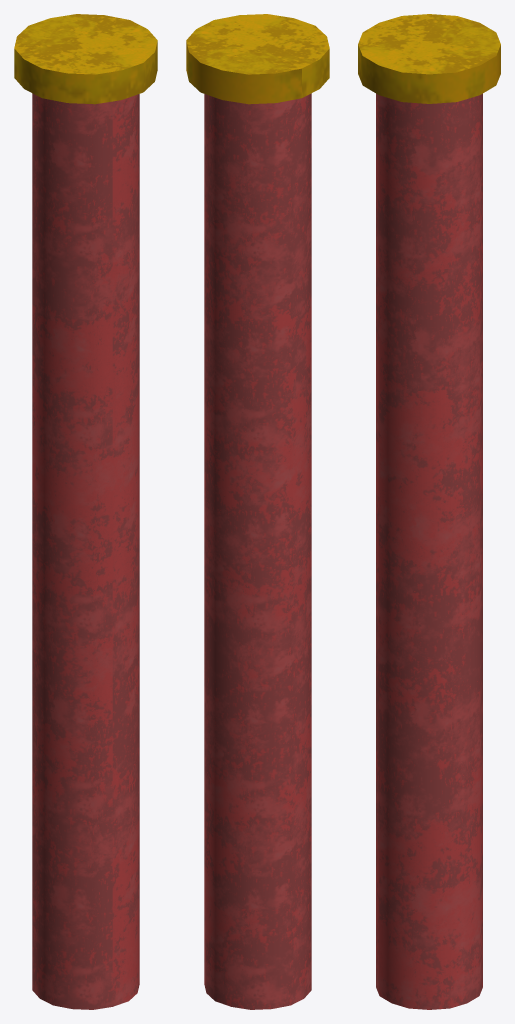
The model's file is Pilar_Center.fbx.
3 renders of one model, left to right at view 1: azimuth 30°, elevation 25°; view 2: azimuth 150°, elevation 25°; view 3: azimuth 270°, elevation 25°, orthographic.
Parts seen in each view (by area): view 1: Pilar_Center_LOD0, Pilar_Center_Mid_LOD0; view 2: Pilar_Center_LOD0, Pilar_Center_Mid_LOD0; view 3: Pilar_Center_LOD0, Pilar_Center_Mid_LOD0.
Boxes of the visible parts, bbox=[...] form: Pilar_Center_LOD0: bbox=[32, 93, 139, 1009]; Pilar_Center_Mid_LOD0: bbox=[14, 14, 157, 104]; Pilar_Center_LOD0: bbox=[204, 93, 311, 1009]; Pilar_Center_Mid_LOD0: bbox=[186, 14, 329, 104]; Pilar_Center_LOD0: bbox=[376, 93, 482, 1009]; Pilar_Center_Mid_LOD0: bbox=[358, 14, 500, 103].
Size of what is drawn, in the model's own units: 27.91 by 203 by 27.91.
